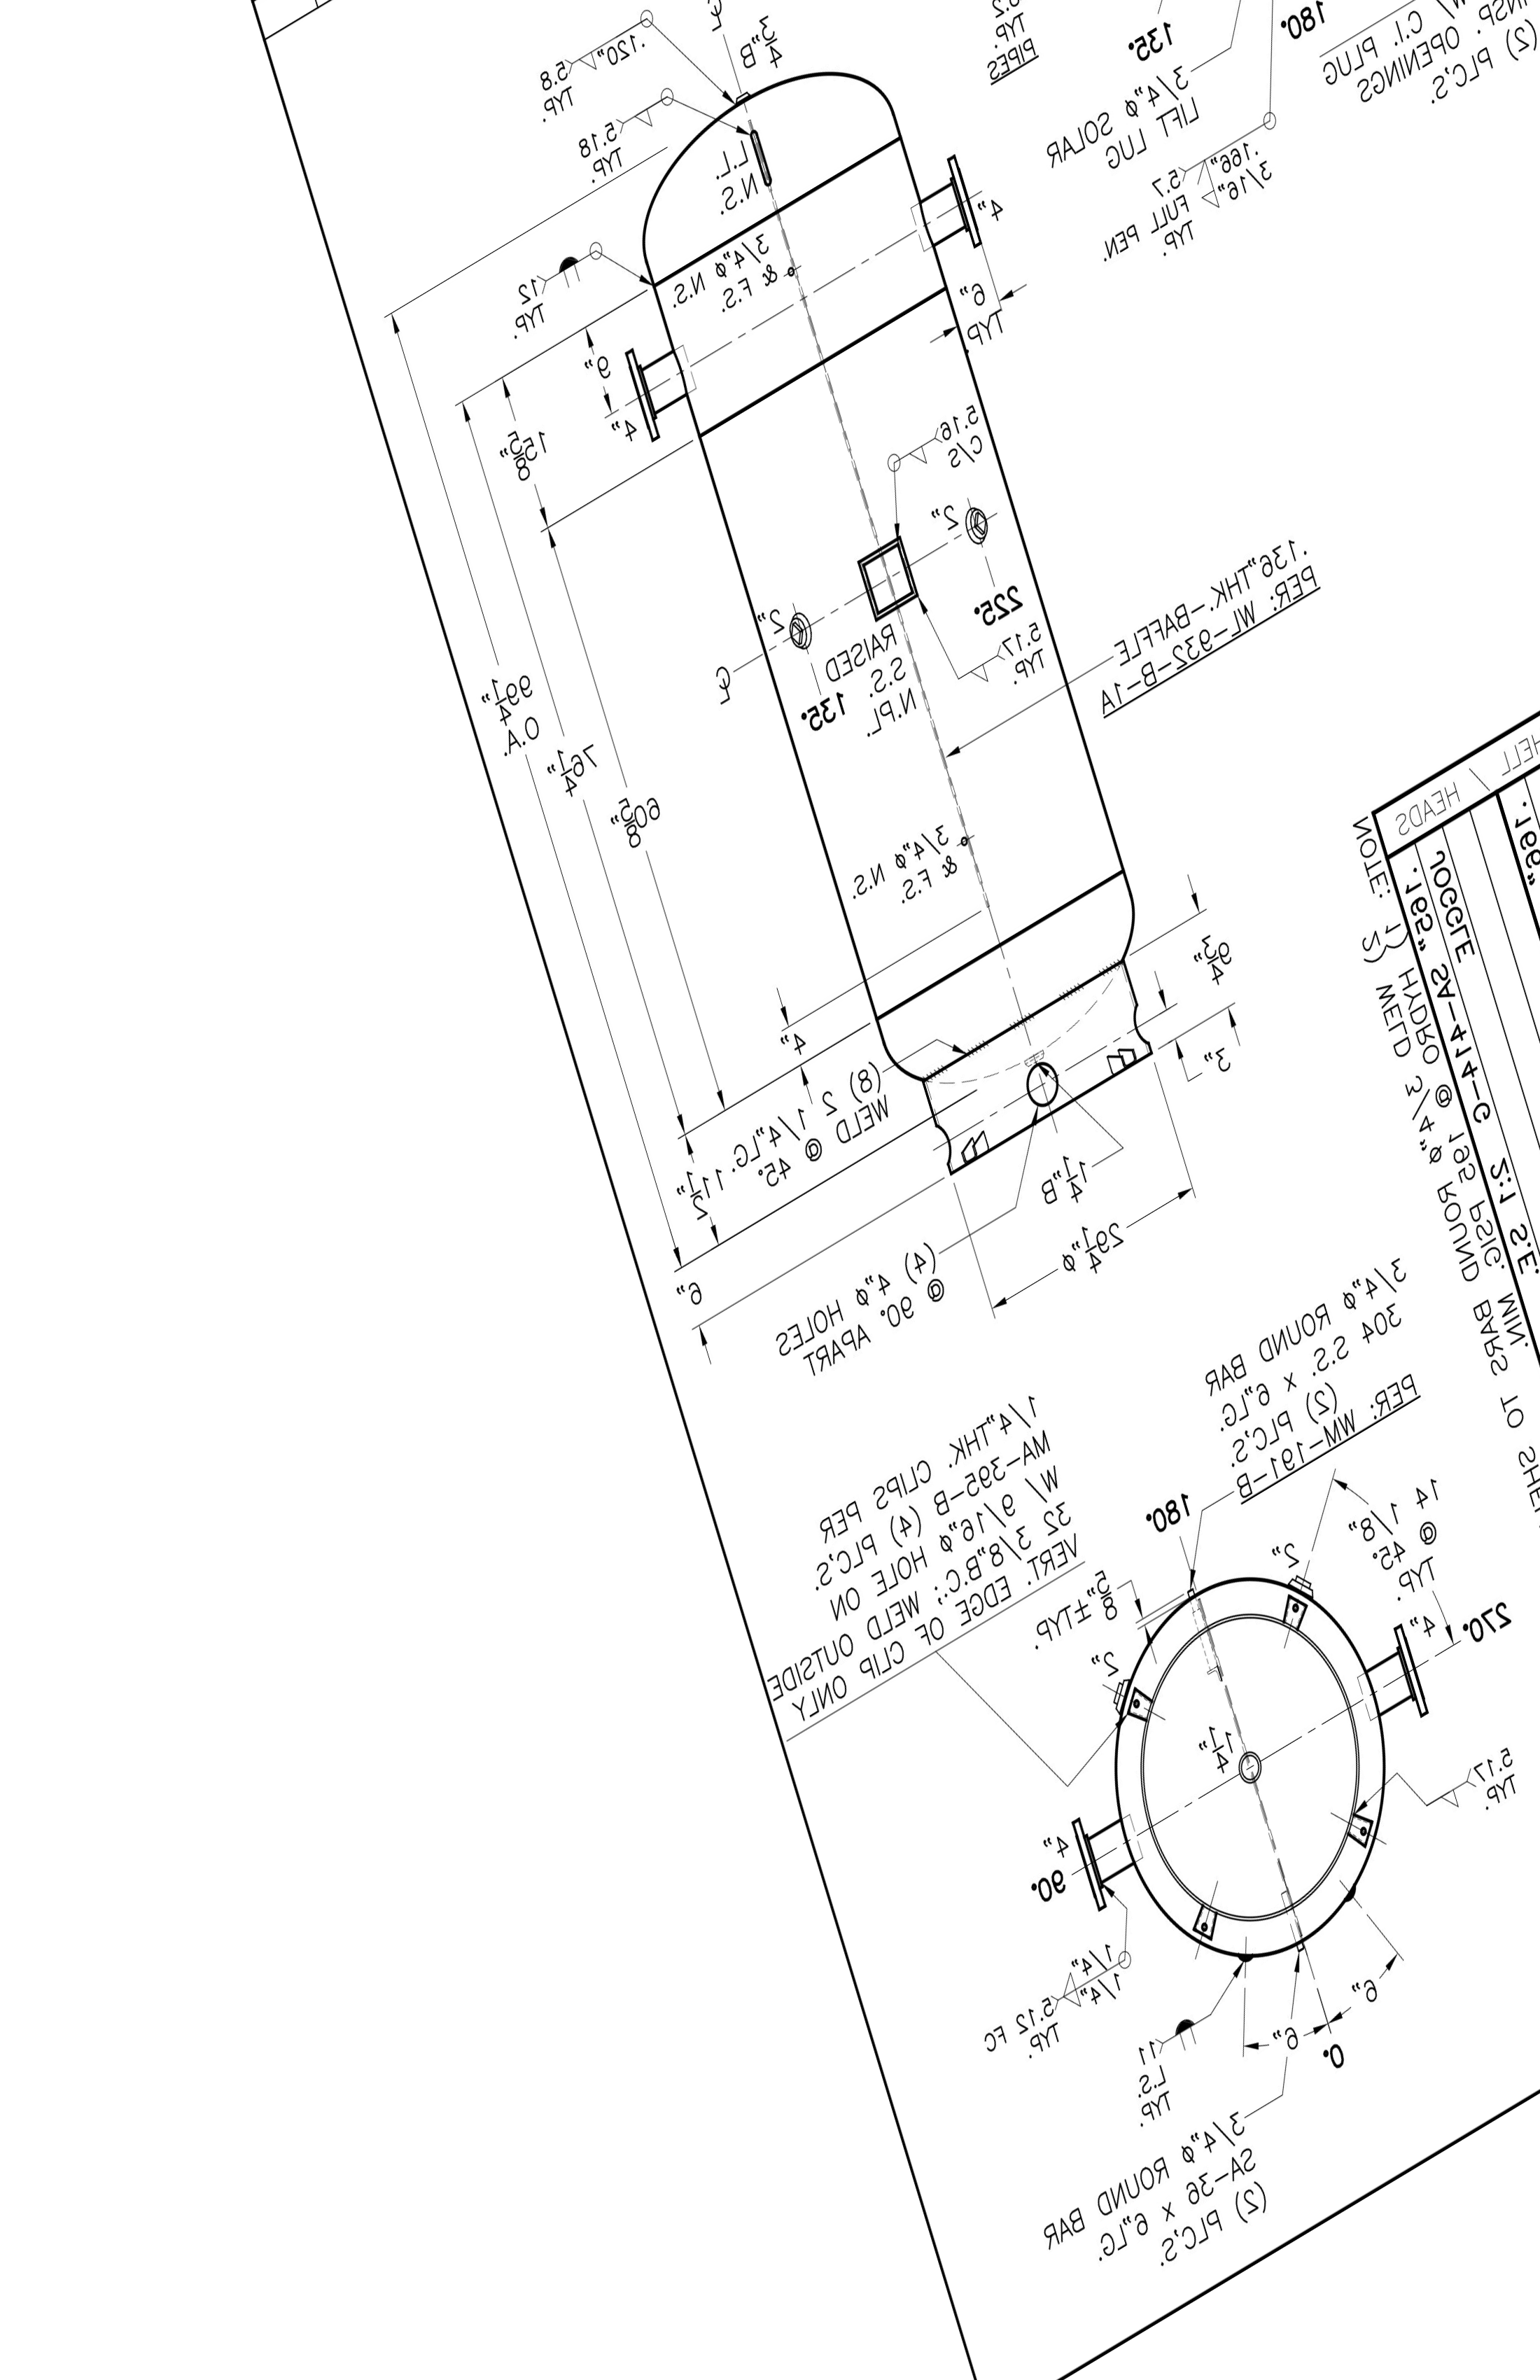Nozzle: (1018, 1783, 1210, 1936), (1335, 1599, 1424, 1778), (890, 160, 1039, 257), (610, 345, 721, 472)
